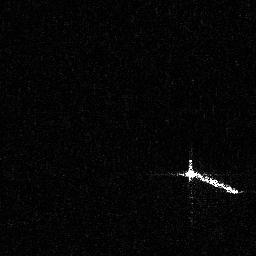ship: (151, 148, 245, 196)
